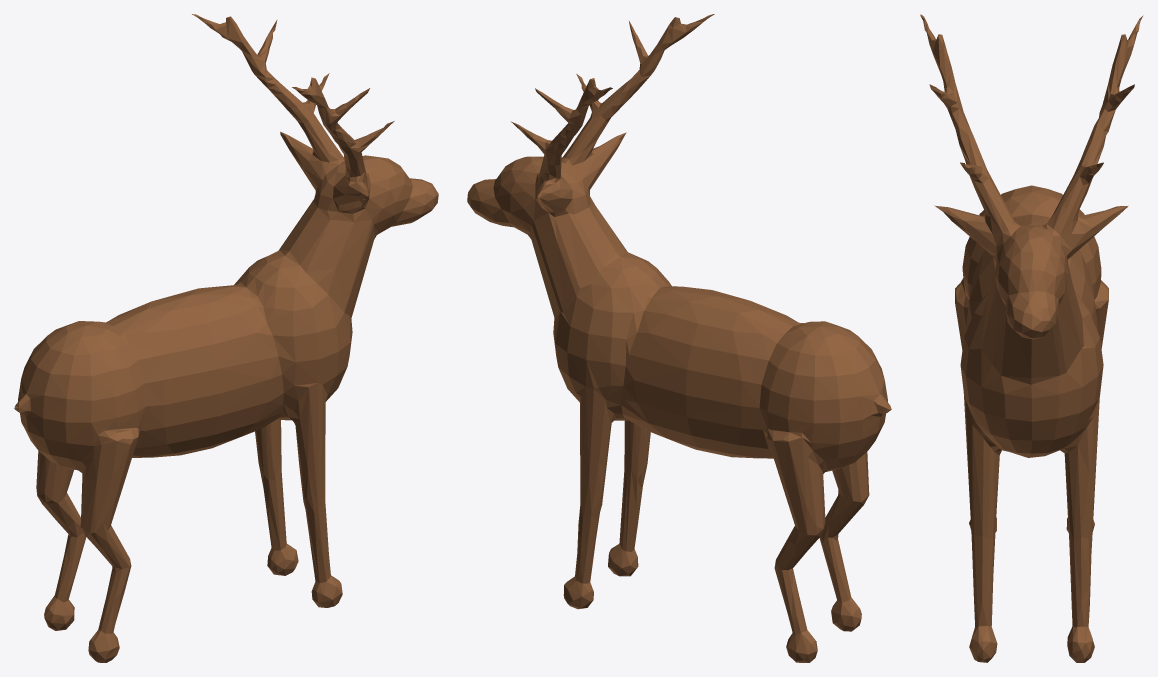
Rendered from NEW_RECOVERY_029_LOD2.glb.
3 views of the same model, side by side, from view 1: azimuth 30°, elevation 25°; view 2: azimuth 150°, elevation 25°; view 3: azimuth 270°, elevation 25° (orthographic). The views are drawn at different scales.
Visible parts, largest first — view 1: Deer_single_solid; view 2: Deer_single_solid; view 3: Deer_single_solid.
Part boxes in pixels (bbox=[...]): Deer_single_solid: bbox=[14, 14, 438, 662]; Deer_single_solid: bbox=[467, 14, 891, 662]; Deer_single_solid: bbox=[920, 14, 1143, 662].
Size of the model in its own units: 2.77 by 3.48 by 1.15.
